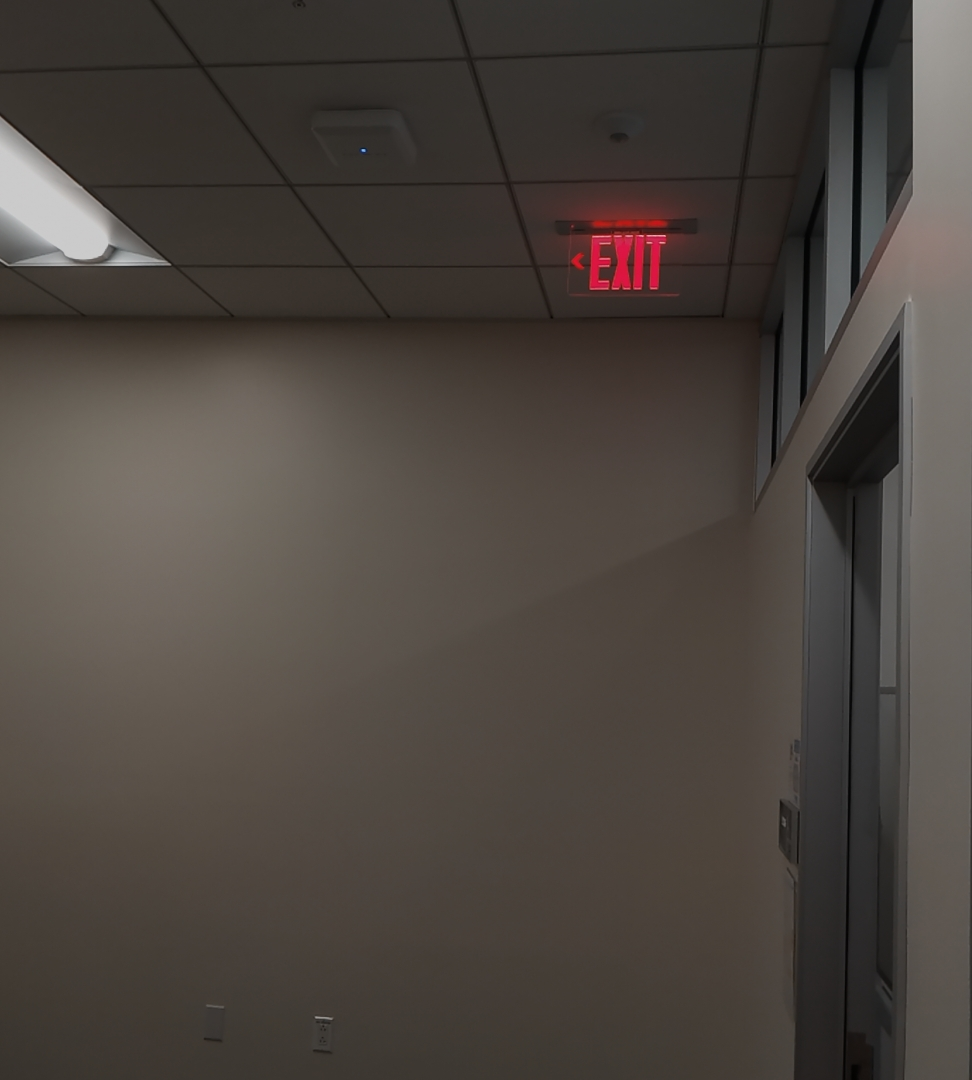emergency_exit: (564, 222, 682, 300)
